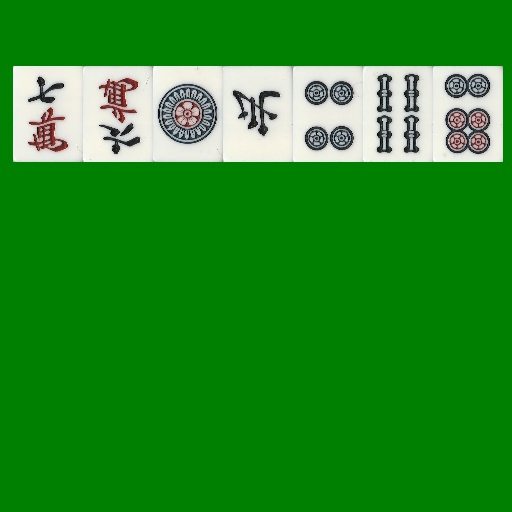1p: (153, 66, 223, 162)
4p: (293, 66, 363, 162)
4s: (363, 66, 433, 162)
6m: (83, 66, 153, 162)
6p: (433, 66, 503, 162)
7m: (13, 66, 83, 162)
north: (223, 66, 293, 162)
